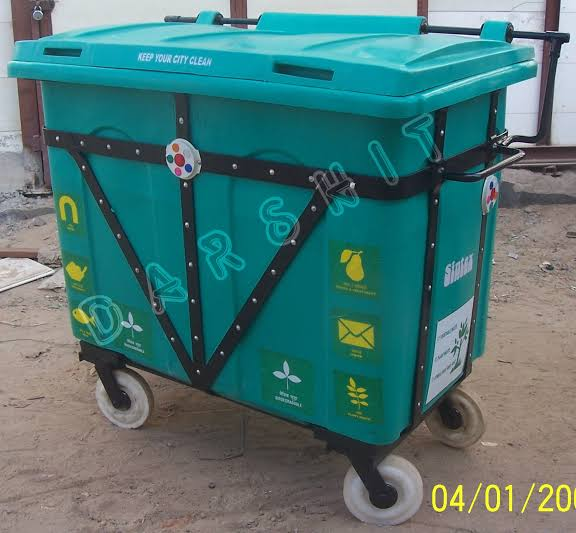Carts: (6, 12, 572, 532)
